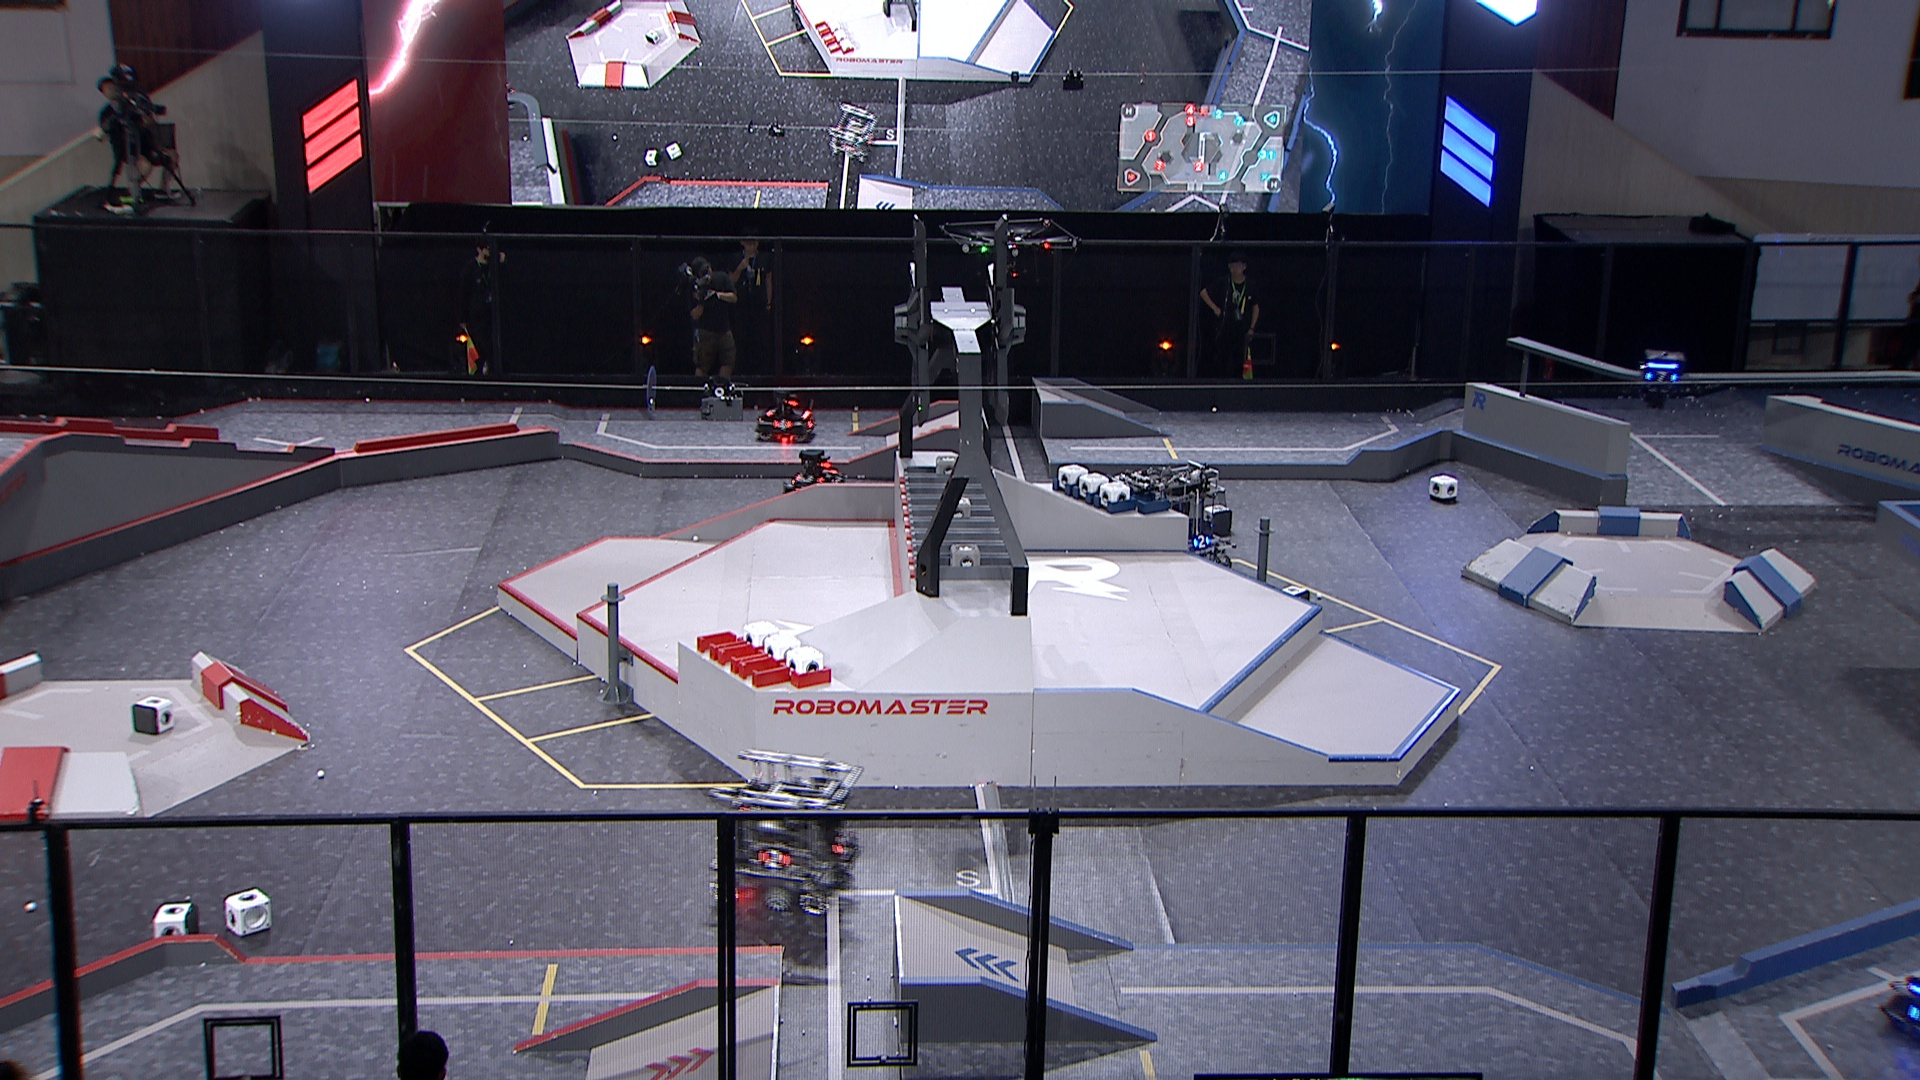armor: (754, 847, 794, 870), (1644, 368, 1679, 386), (828, 832, 852, 858), (1189, 531, 1212, 553), (769, 417, 794, 433)
car: (702, 749, 862, 918), (1120, 462, 1236, 576), (1883, 940, 1920, 1044), (782, 447, 845, 504), (756, 386, 814, 443)
ignore: (827, 102, 880, 164)
watcher: (1633, 347, 1691, 415)
